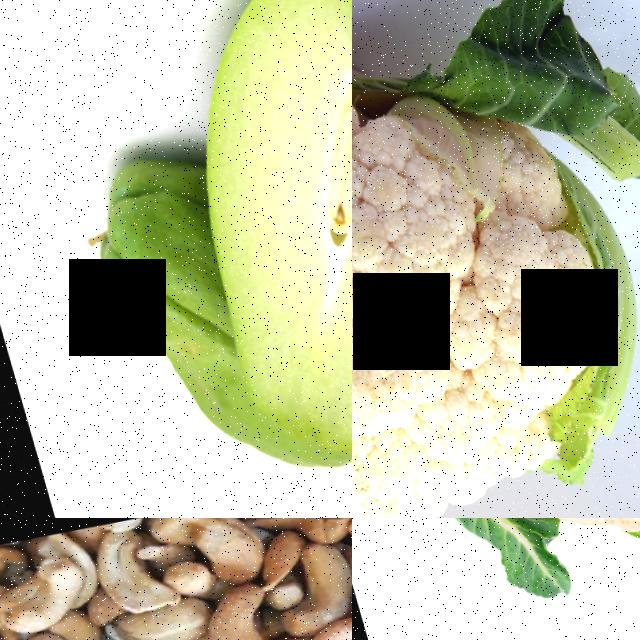cashew: (0, 556, 101, 640), (80, 518, 162, 615), (116, 596, 214, 640), (209, 581, 277, 640), (285, 619, 352, 640)
cauliflower: (352, 0, 640, 518), (352, 518, 640, 640)
chayote: (37, 129, 248, 457), (147, 0, 352, 316)
